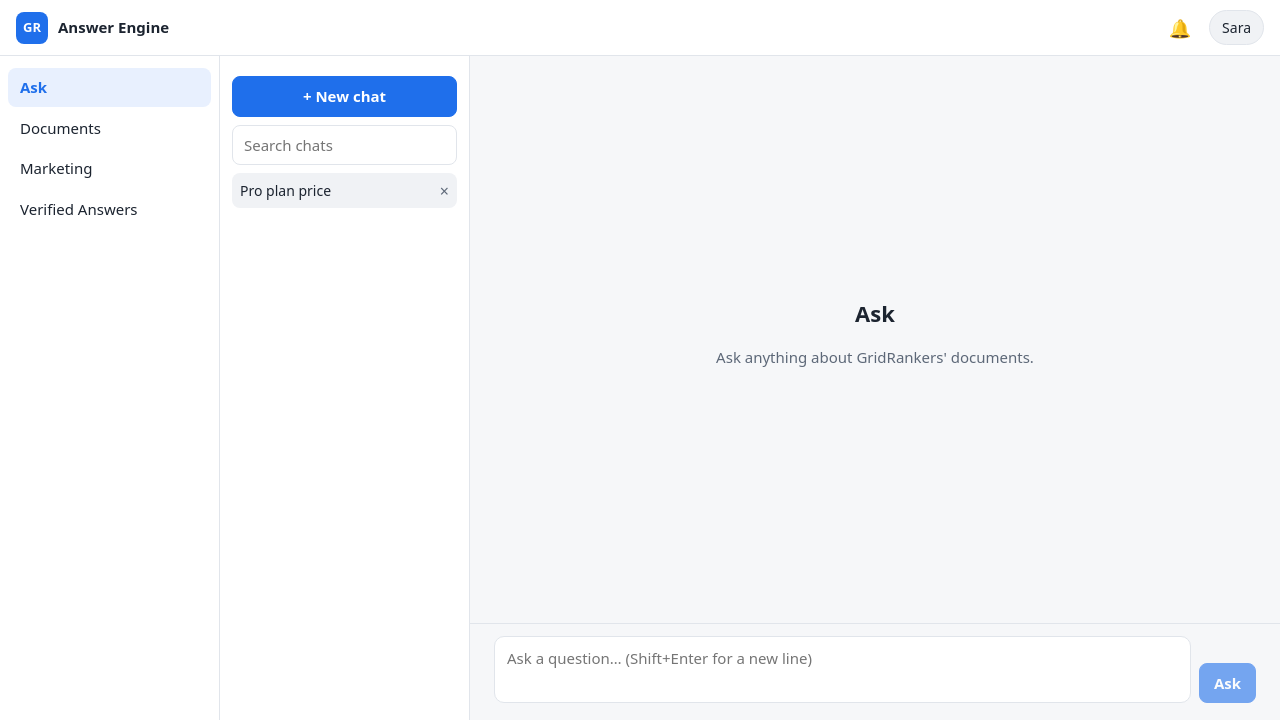
Test: a failed answer offers to try again
The width and height of the screenshot is (1280, 720).
Type "Price?" into the text box named "Your question" at (842, 670), box left=494, top=636, right=1191, bottom=703
Then press Enter
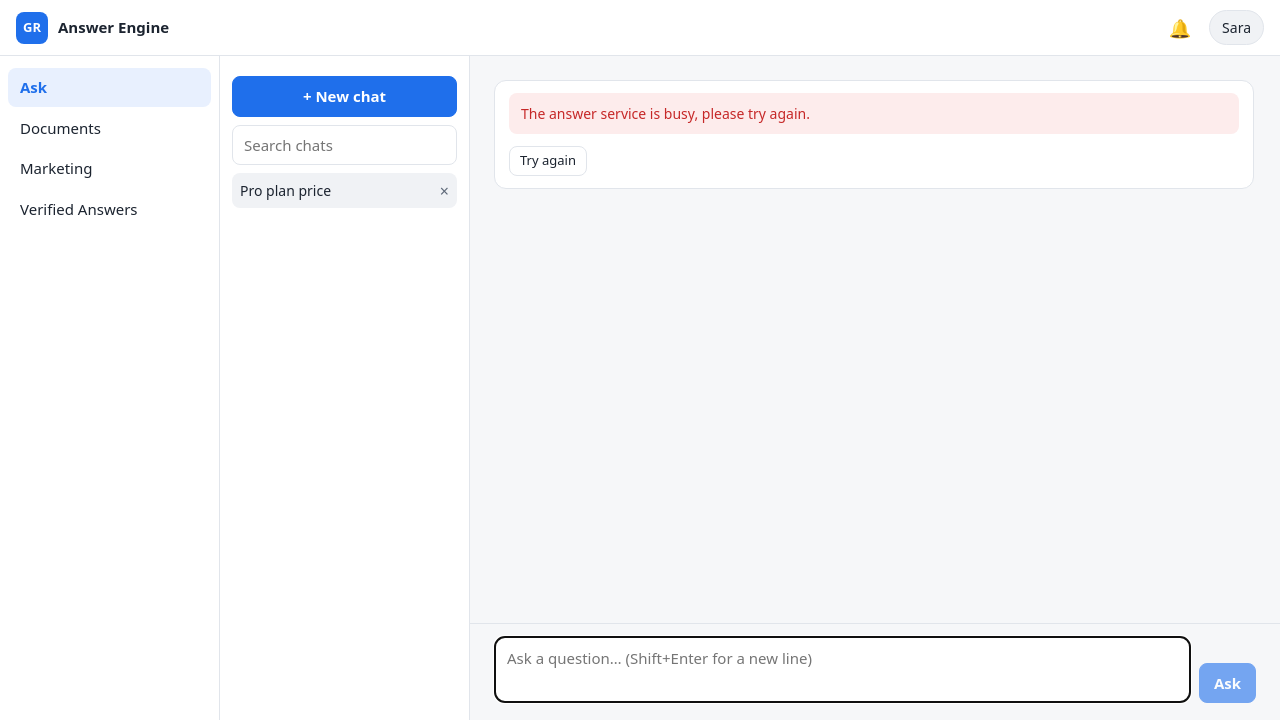
Expected: the text "The answer service is busy, please try again." is shown, left=509, top=93, right=1239, bottom=134
Click the button "Try again" at (548, 161), box left=509, top=146, right=587, bottom=176
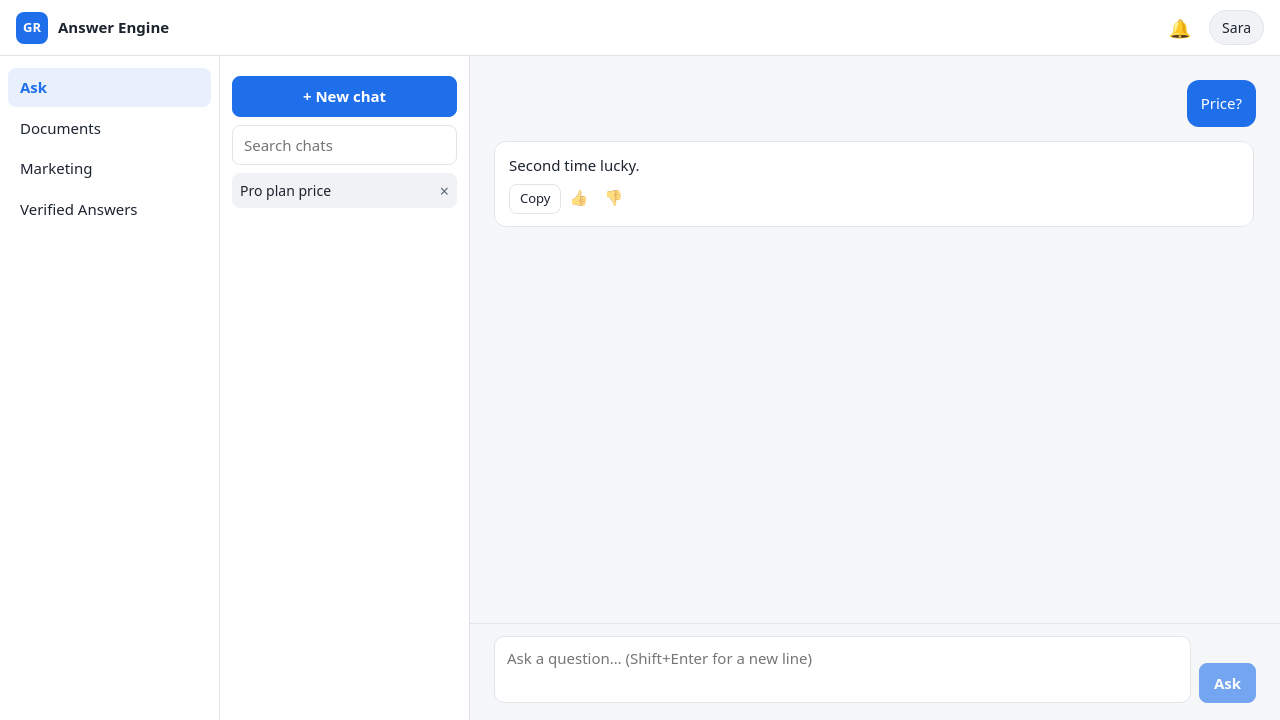
Expected: the text "Price?" is shown once, left=1187, top=80, right=1256, bottom=126
Expected: the text "Second time lucky." is shown, left=509, top=154, right=640, bottom=174
